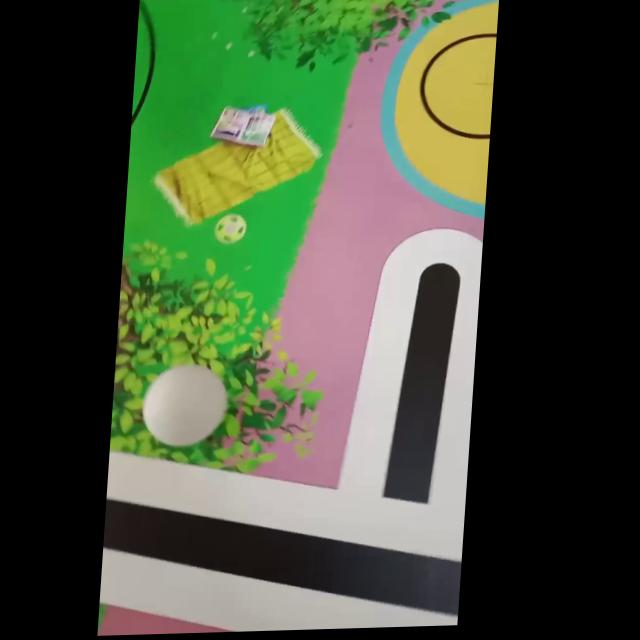white ball: (139, 363, 230, 448)
